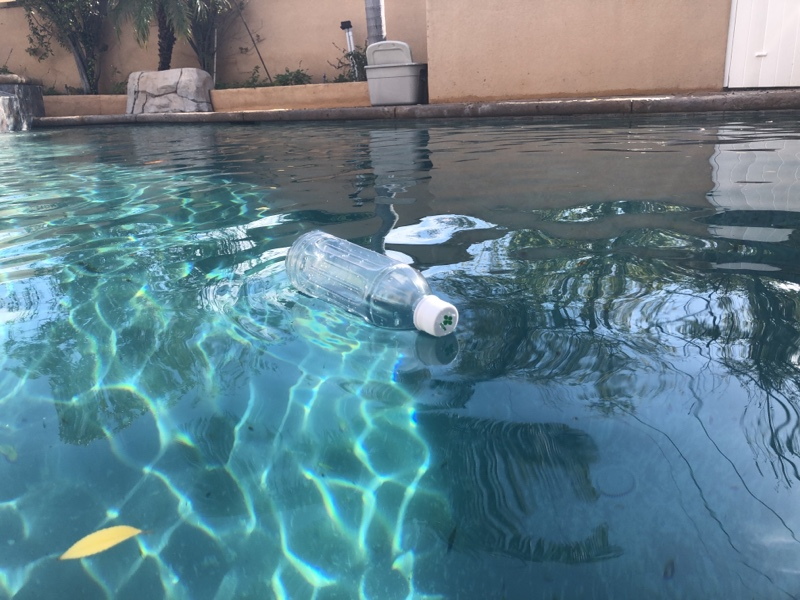Plastic Bottle: (282, 227, 461, 340)
